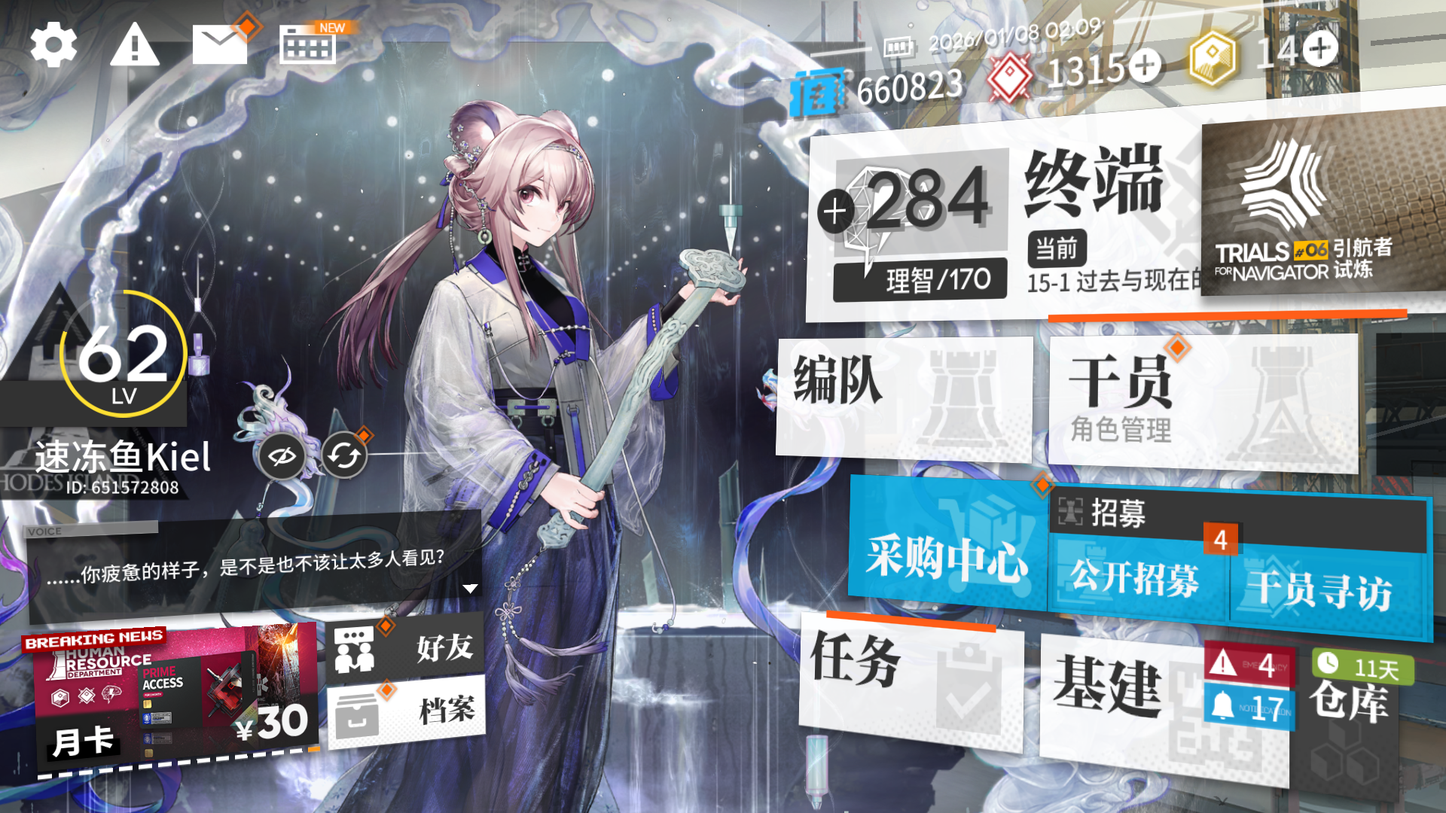home_button: (983, 111, 1211, 261)
infrastructure_button: (1041, 646, 1270, 775)
